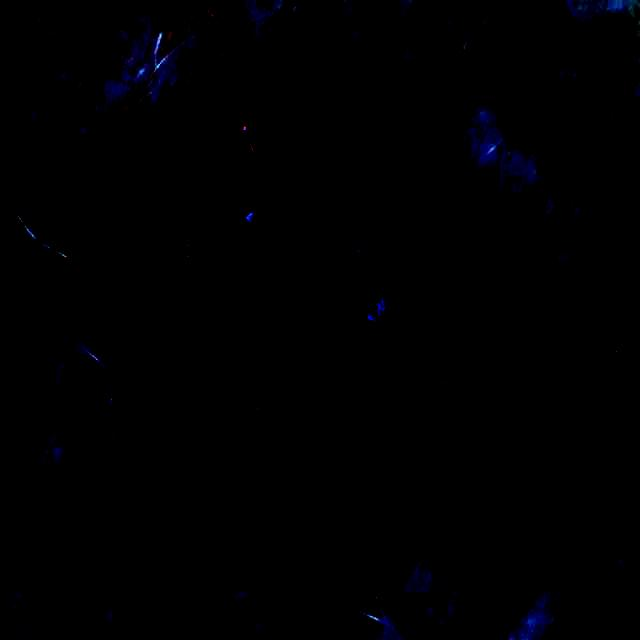BCC: (182, 78, 489, 511)
